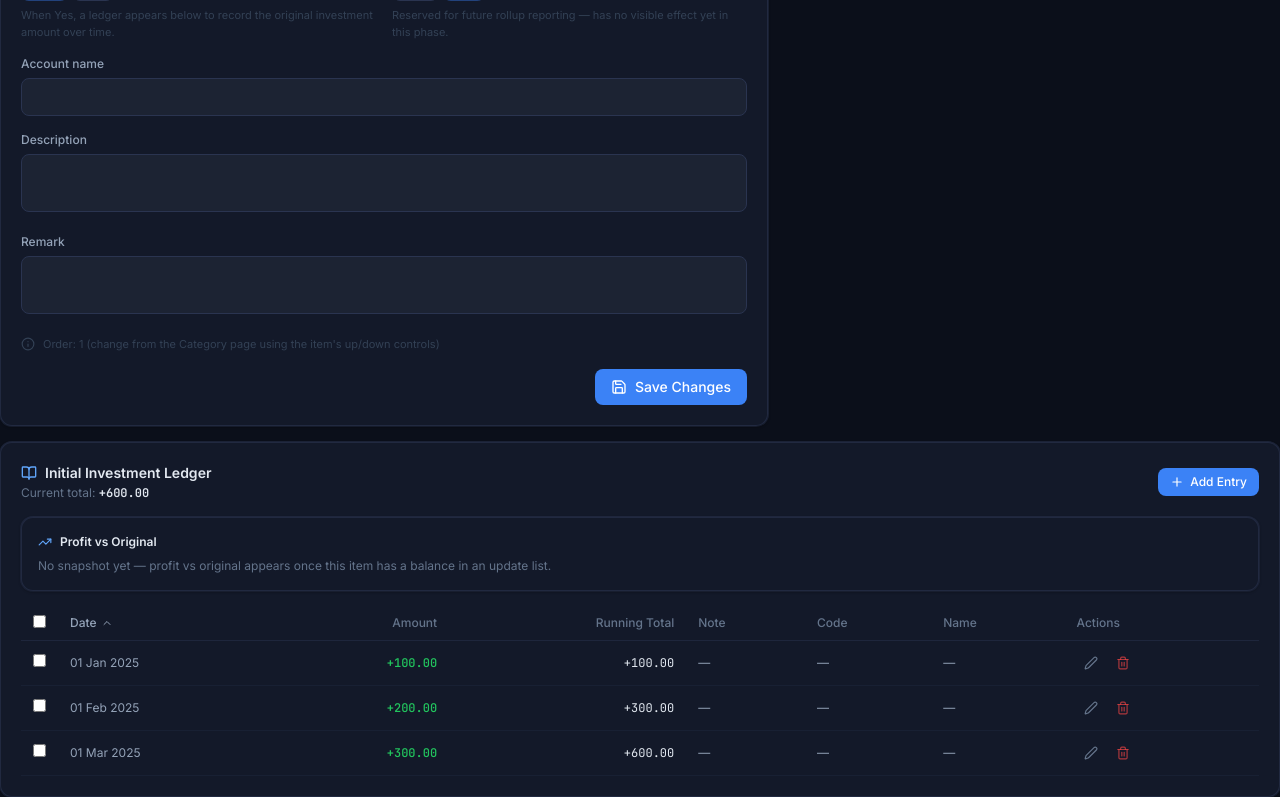
it: TrackingItemDetailPage — Ledger multi-select & bulk delete › shows the bulk action bar only when at least one row is selected, and Clear selection empties it
The image size is (1280, 797).
(page scrolled)
Check: the column heading "Date" is shown, box [58, 606, 277, 640]
Check: the button "Delete Selected" is not shown
Click the checkbox named "Select entry on 01 Jan 2025".
click(40, 660)  # box [33, 654, 46, 667]
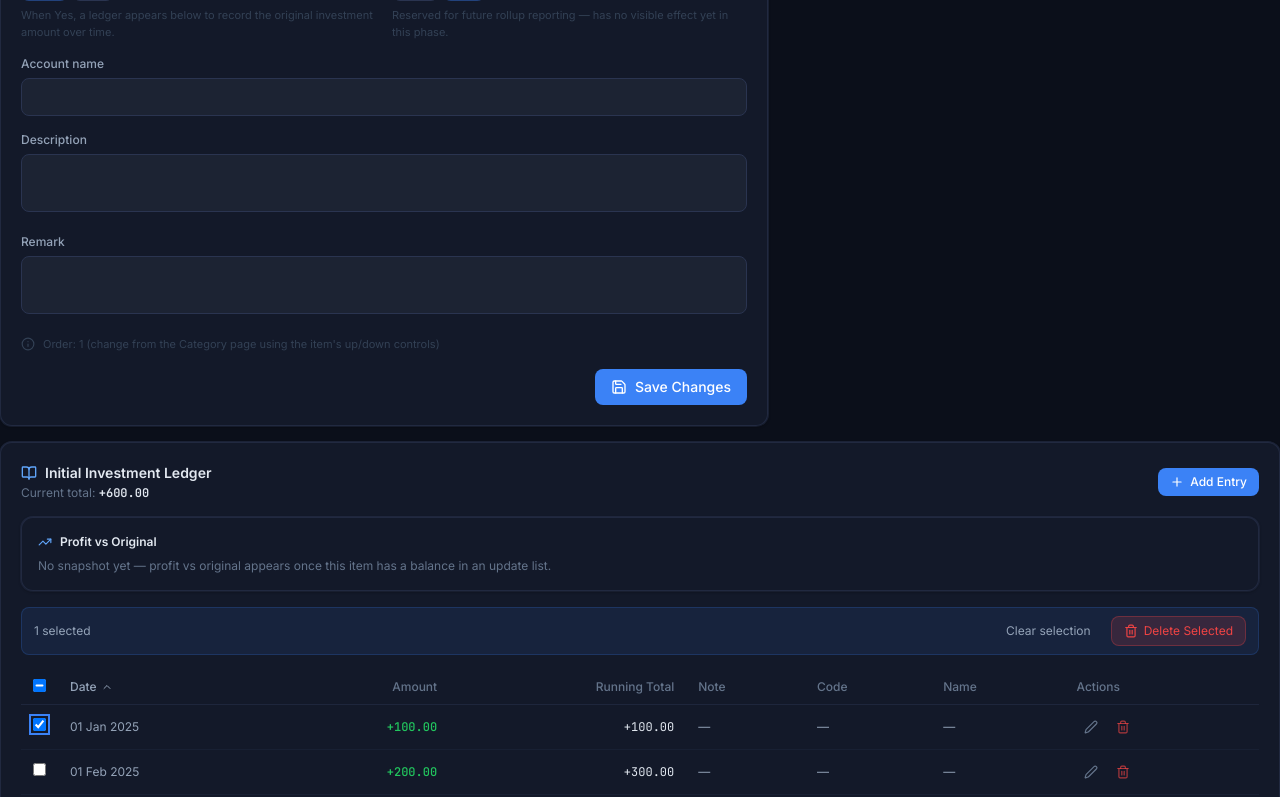
Check: the button "Delete Selected" is shown, box [1111, 616, 1246, 646]
Click the button "Clear selection".
click(1048, 630)  # box [994, 616, 1103, 644]
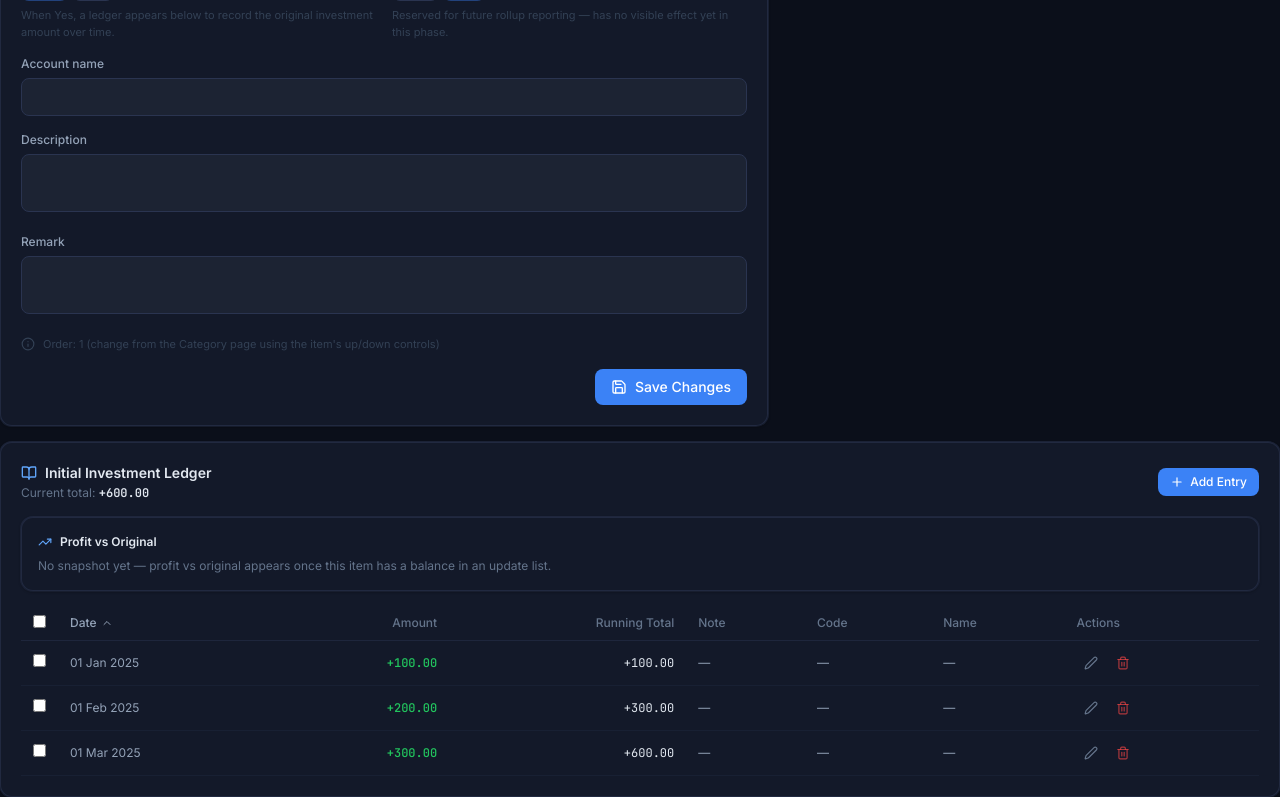
Check: the checkbox named "Select entry on 01 Jan 2025" is not checked, box [33, 654, 46, 667]
Check: the button "Delete Selected" is gone
